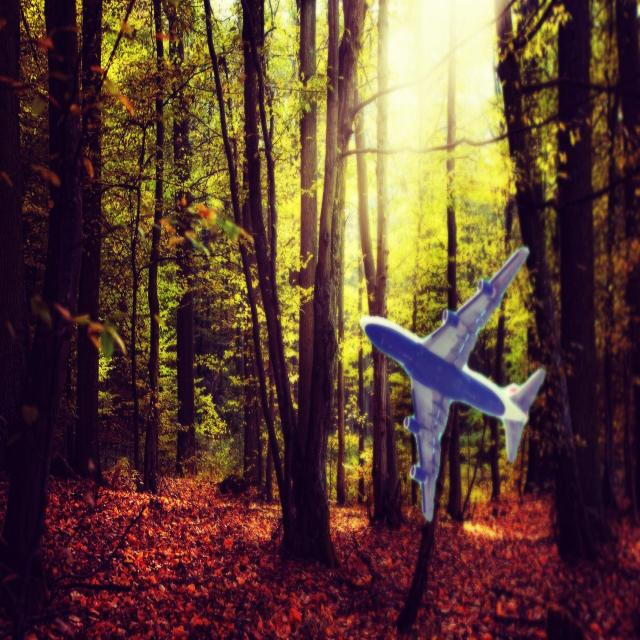airplane: (360, 244, 546, 522)
